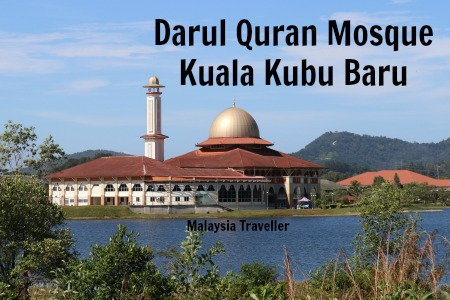Mosque: (38, 70, 315, 204)
